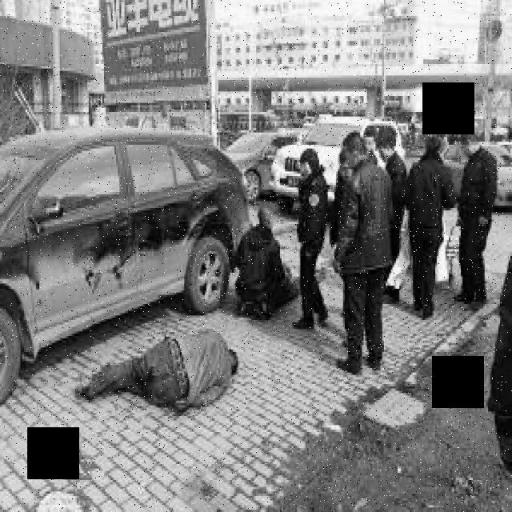Fall: (63, 318, 246, 416)
